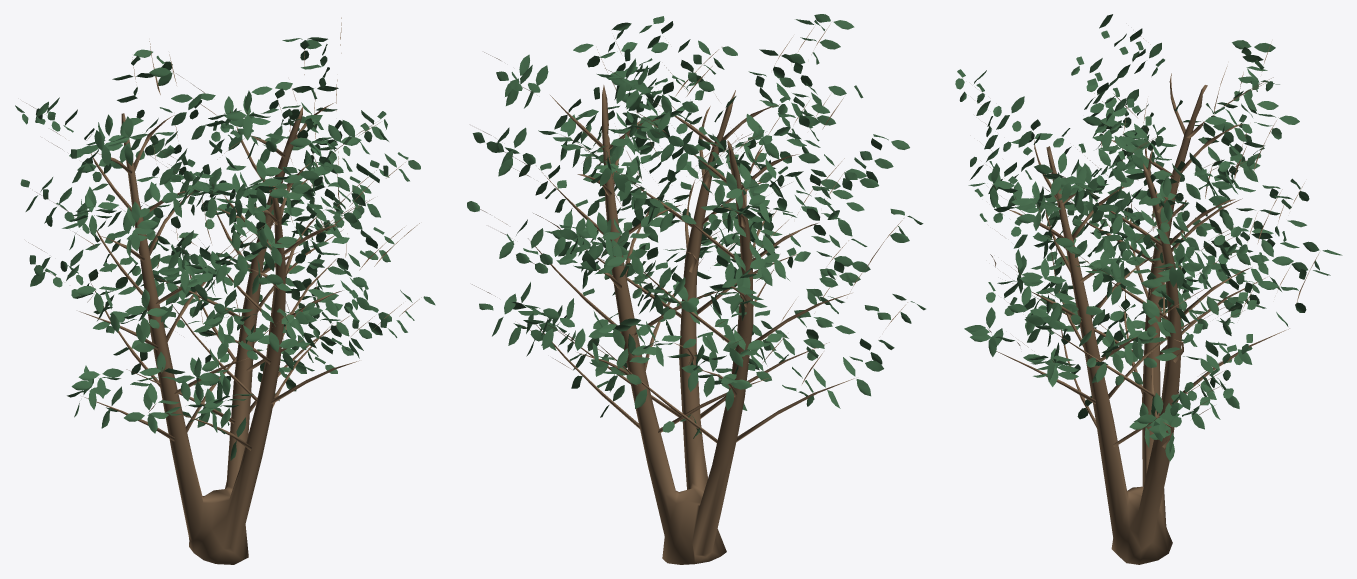
Rendered from Myrte_0_Niveau1.fbx.
The picture shows the model from 3 angles, left to right: view 1: azimuth 30°, elevation 25°; view 2: azimuth 150°, elevation 25°; view 3: azimuth 270°, elevation 25°; orthographic projection. The views are drawn at different scales.
Visible parts, largest first — view 1: Myrte_0_Niveau1; view 2: Myrte_0_Niveau1; view 3: Myrte_0_Niveau1.
Boxes of the visible parts, <box> form: Myrte_0_Niveau1: <box>15,17,435,564</box>; Myrte_0_Niveau1: <box>467,14,925,564</box>; Myrte_0_Niveau1: <box>955,14,1342,564</box>.
Bounding box in the file's own units: 89.57 × 116 × 85.32.
